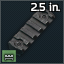Magpul M-LOK 2.5 inch rail: (0, 0, 64, 64)
